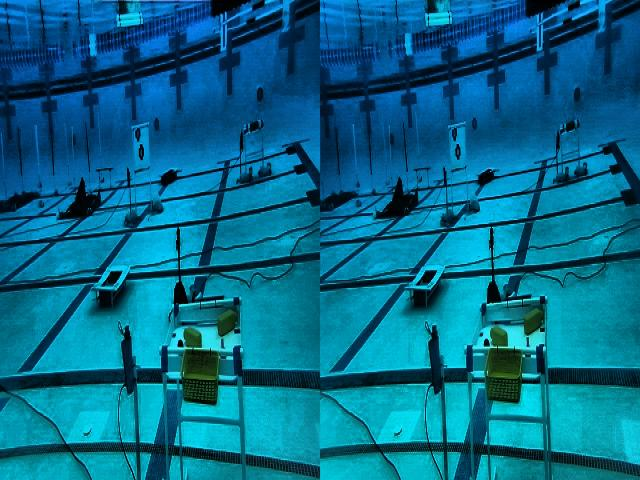octagon_table: (462, 292, 552, 480), (159, 293, 247, 480), (552, 115, 588, 186), (236, 117, 272, 187)
octagon_top: (528, 0, 612, 53), (213, 0, 295, 53)
path_marker: (95, 168, 115, 194), (413, 166, 432, 191)
